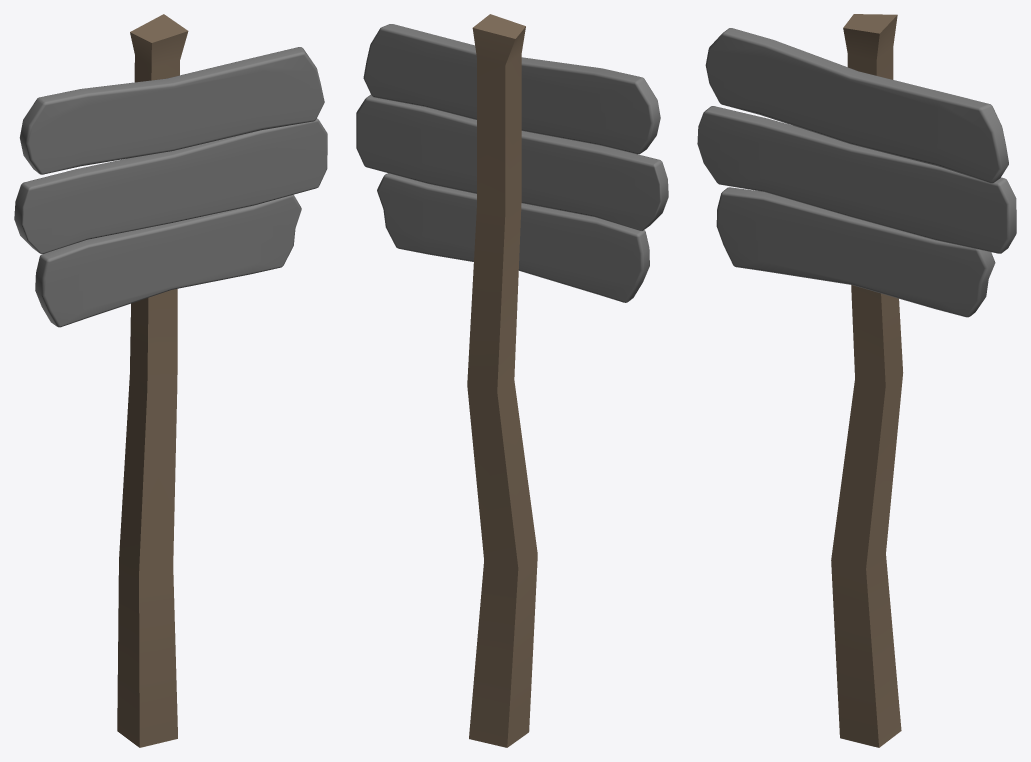
Rendered from P_Stash_sign_01_LD.fbx.
The picture shows the model from 3 angles, left to right: view 1: azimuth 30°, elevation 25°; view 2: azimuth 150°, elevation 25°; view 3: azimuth 330°, elevation 25°; orthographic projection. The views are drawn at different scales.
Parts seen in each view (by area): view 1: P_Stash_sign_01; view 2: P_Stash_sign_01; view 3: P_Stash_sign_01.
Boxes of the visible parts, x1=… form: P_Stash_sign_01: x1=14, y1=14, x2=327, y2=747; P_Stash_sign_01: x1=356, y1=14, x2=668, y2=747; P_Stash_sign_01: x1=697, y1=14, x2=1016, y2=747.
Bounding box in the file's own units: 74.27 × 164 × 15.04.
